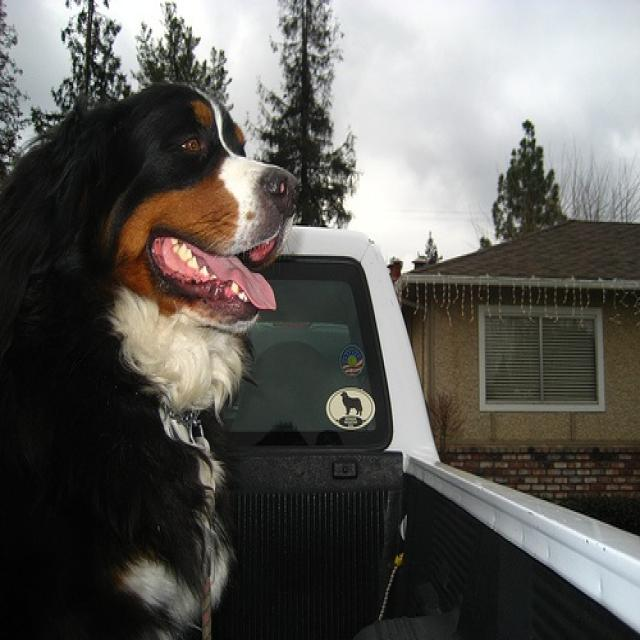dog: (0, 77, 300, 633)
